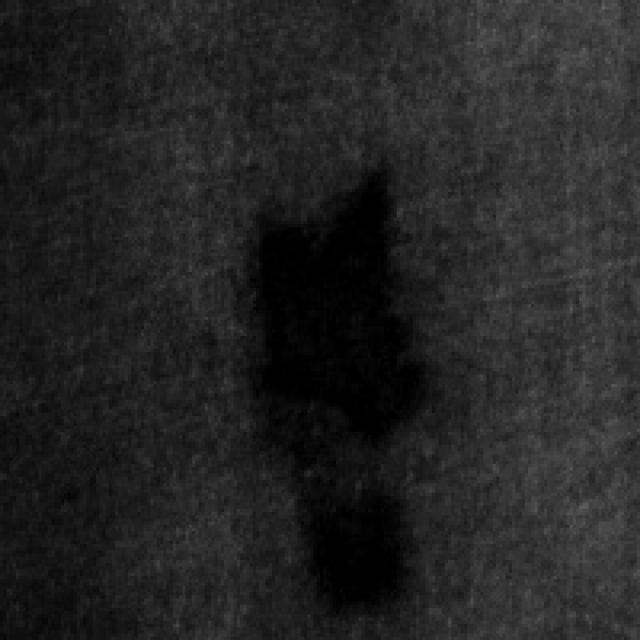patches: (237, 160, 422, 461), (285, 464, 413, 614)
